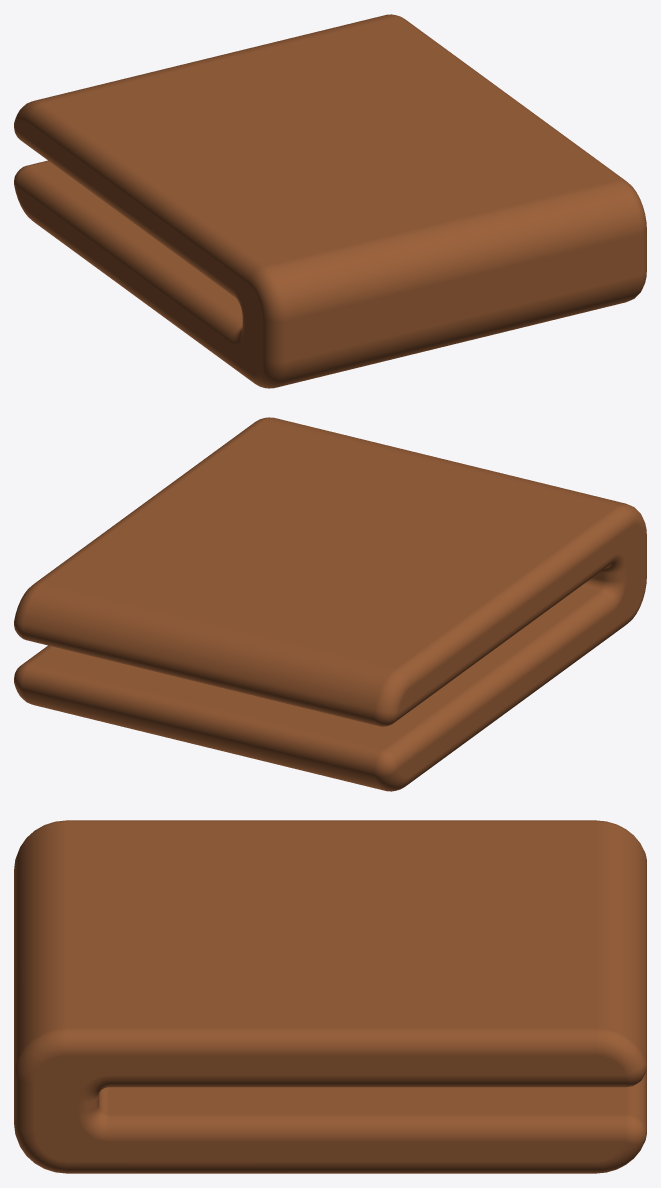
File: Wallet.glb
3 views of the same model, one above another, from view 1: azimuth 30°, elevation 25°; view 2: azimuth 150°, elevation 25°; view 3: azimuth 270°, elevation 25° (orthographic). The views are drawn at different scales.
Visible parts, largest first — view 1: Wallet; view 2: Wallet; view 3: Wallet.
Part boxes in pixels (<box>): Wallet: <box>14,14,646,388</box>; Wallet: <box>14,417,646,791</box>; Wallet: <box>14,820,646,1173</box>.
Bounding box in the file's own units: 2.5 × 0.75 × 2.99.
